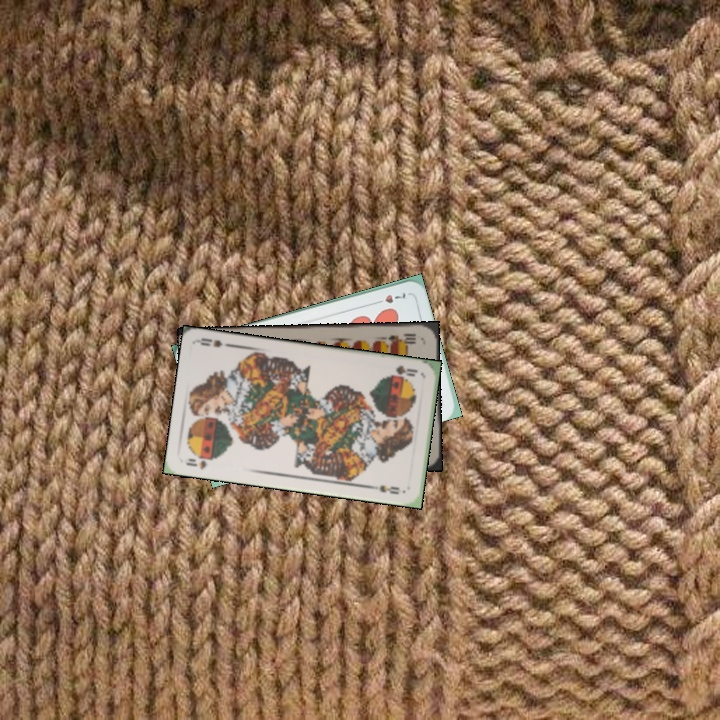E10: (384, 329, 418, 346)
H7: (370, 289, 408, 307)
SO: (385, 361, 420, 379), (182, 454, 209, 472)
